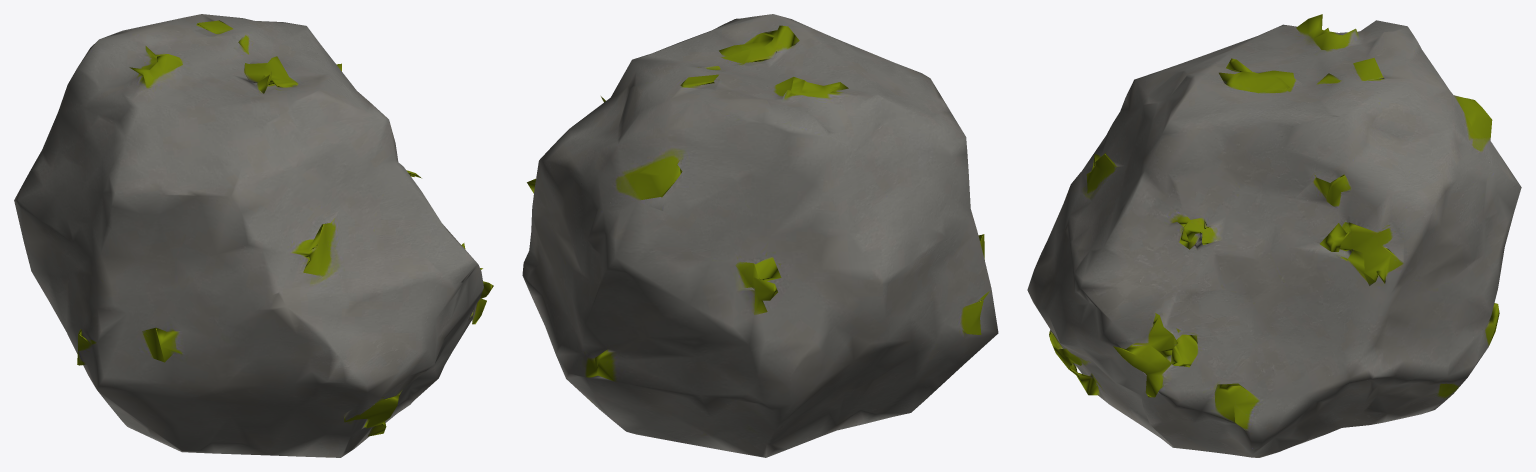
The model's file is rock.glb.
The picture shows the model from 3 angles, left to right: view 1: azimuth 30°, elevation 25°; view 2: azimuth 150°, elevation 25°; view 3: azimuth 270°, elevation 25°; orthographic projection. The views are drawn at different scales.
Parts seen in each view (by area): view 1: tripo_node_1b2b33e1-2831-4879-b13f-ea0d54d25b76; view 2: tripo_node_1b2b33e1-2831-4879-b13f-ea0d54d25b76; view 3: tripo_node_1b2b33e1-2831-4879-b13f-ea0d54d25b76.
Part boxes in pixels (bbox=[...]): tripo_node_1b2b33e1-2831-4879-b13f-ea0d54d25b76: bbox=[14, 14, 493, 457]; tripo_node_1b2b33e1-2831-4879-b13f-ea0d54d25b76: bbox=[522, 14, 998, 457]; tripo_node_1b2b33e1-2831-4879-b13f-ea0d54d25b76: bbox=[1027, 14, 1521, 457].
Bounding box in the file's own units: 0.9132 × 0.7511 × 1.
1 material, 1 textured.
